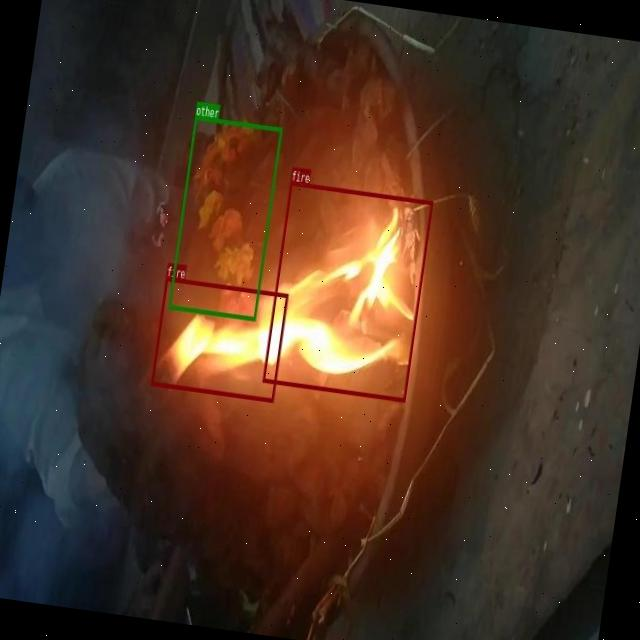fire: (263, 180, 434, 402), (150, 276, 288, 402)
